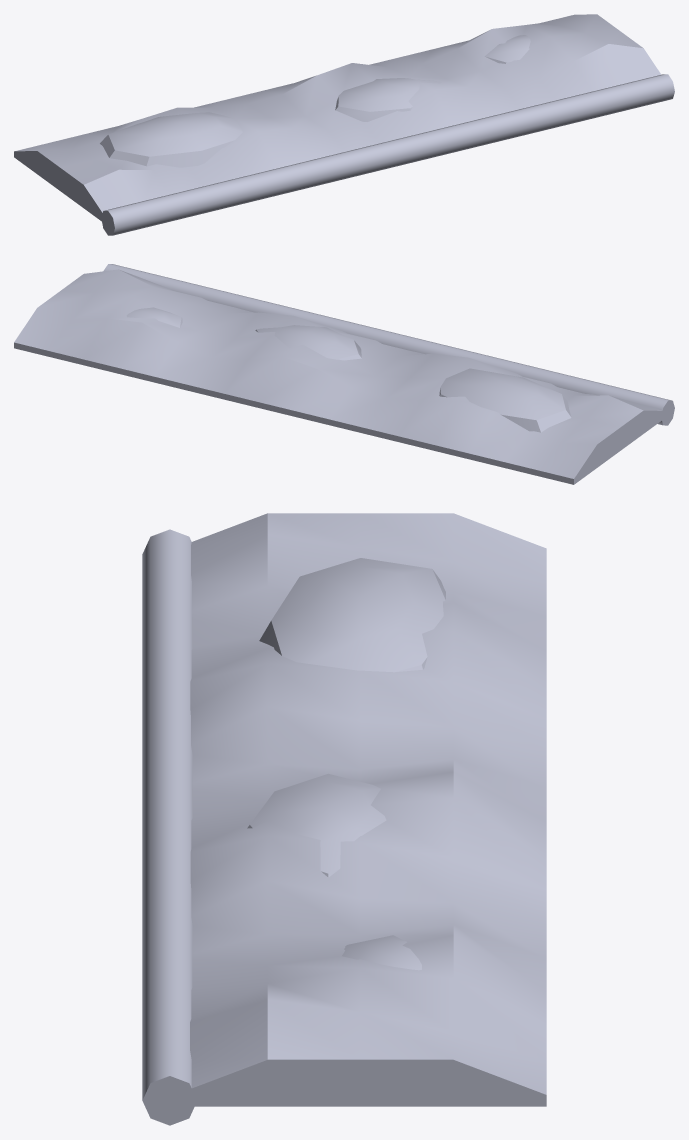
The model's file is Xmas_SnowCap_8.fbx.
3 renders of one model, top to bottom at view 1: azimuth 30°, elevation 25°; view 2: azimuth 150°, elevation 25°; view 3: azimuth 270°, elevation 25°, orthographic. The views are drawn at different scales.
Visible parts, largest first — view 1: Xmas_SnowCap_8; view 2: Xmas_SnowCap_8; view 3: Xmas_SnowCap_8.
Part boxes in pixels (x1,y1,x2,y2): Xmas_SnowCap_8: [14, 14, 674, 235]; Xmas_SnowCap_8: [14, 264, 674, 484]; Xmas_SnowCap_8: [142, 513, 546, 1125].
Bounding box in the file's own units: 8 × 0.67 × 2.5.
1 material, 1 textured.
